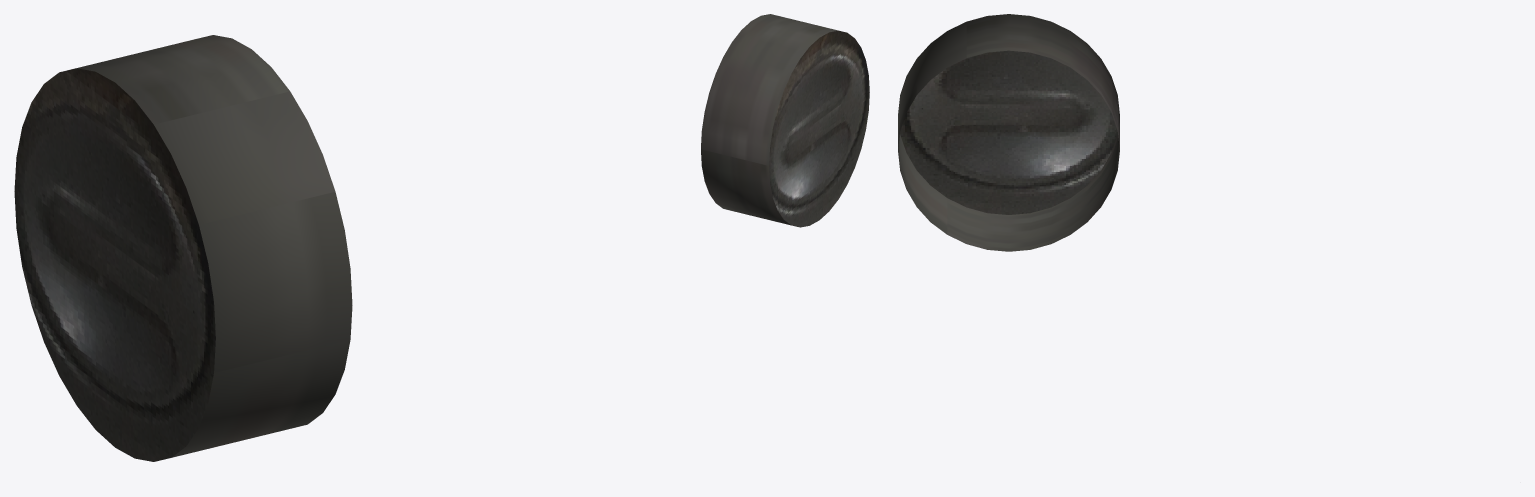
Rendered from Radio.fbx.
The picture shows the model from 3 angles, left to right: view 1: azimuth 30°, elevation 25°; view 2: azimuth 150°, elevation 25°; view 3: azimuth 270°, elevation 25°; orthographic projection. The views are drawn at different scales.
Visible parts, largest first — view 1: Cylinder; view 2: Cylinder; view 3: Cylinder.
Part boxes in pixels (x1=…): Cylinder: x1=14, y1=35, x2=352, y2=461; Cylinder: x1=701, y1=14, x2=869, y2=227; Cylinder: x1=898, y1=14, x2=1119, y2=251.
Bounding box in the file's own units: 1.8 × 2.72 × 4.28.
2 materials, 2 textured.
